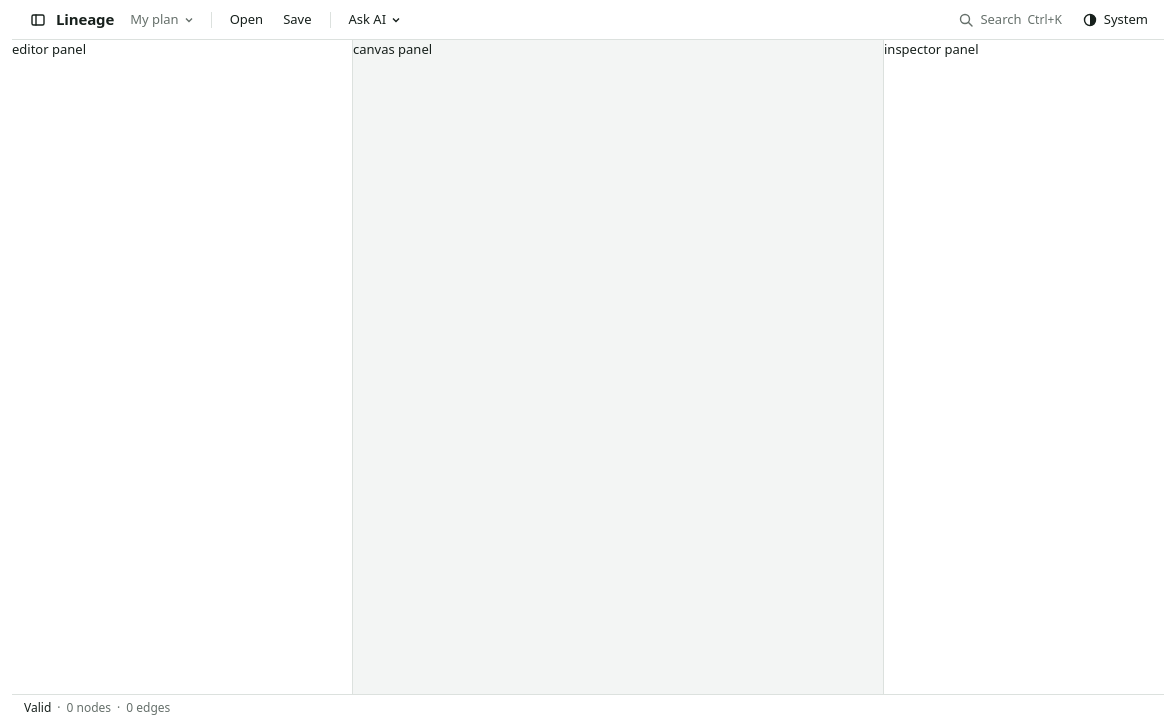
Scenario: flow menu › asks before replacing YAML that is not saved anywhere, and respects No
This screenshot has width=1164, height=720.
What coordinates should you click on to do the following:
click the button "My plan"
I would click on:
 (161, 20)
Its box is [122,6,201,34].
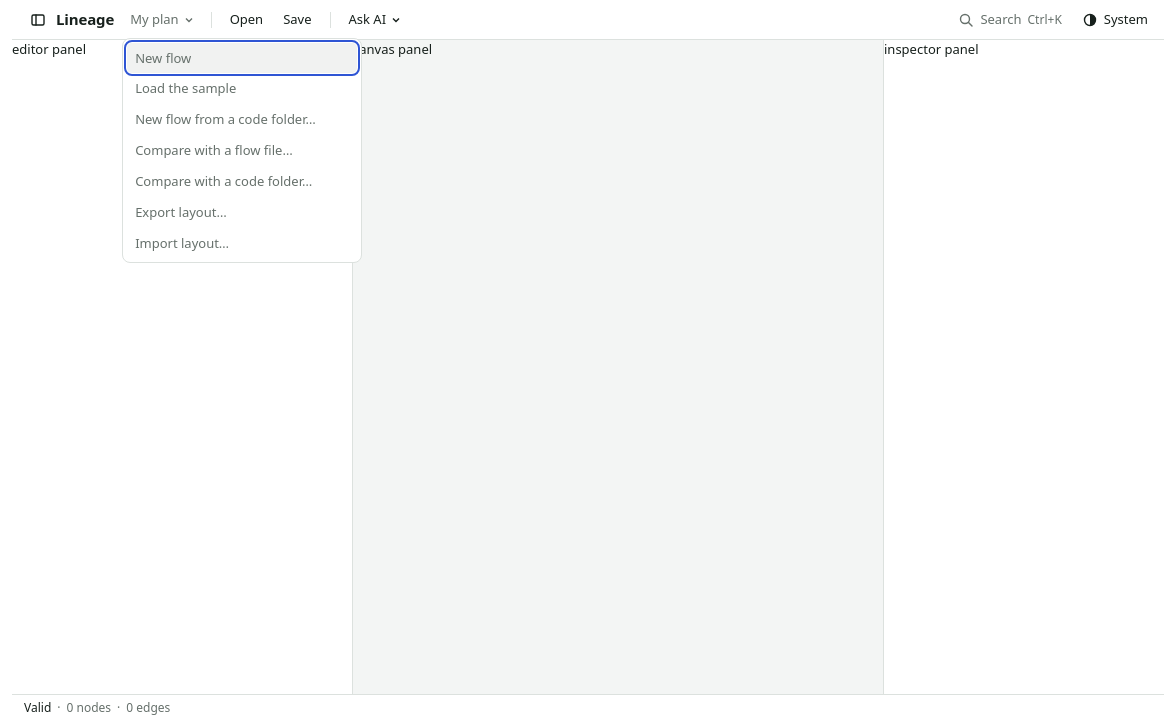
What coordinates should you click on to do the following:
click the menu item "Load the sample"
I would click on:
 (242, 89)
Its box is [127,73,357,104].
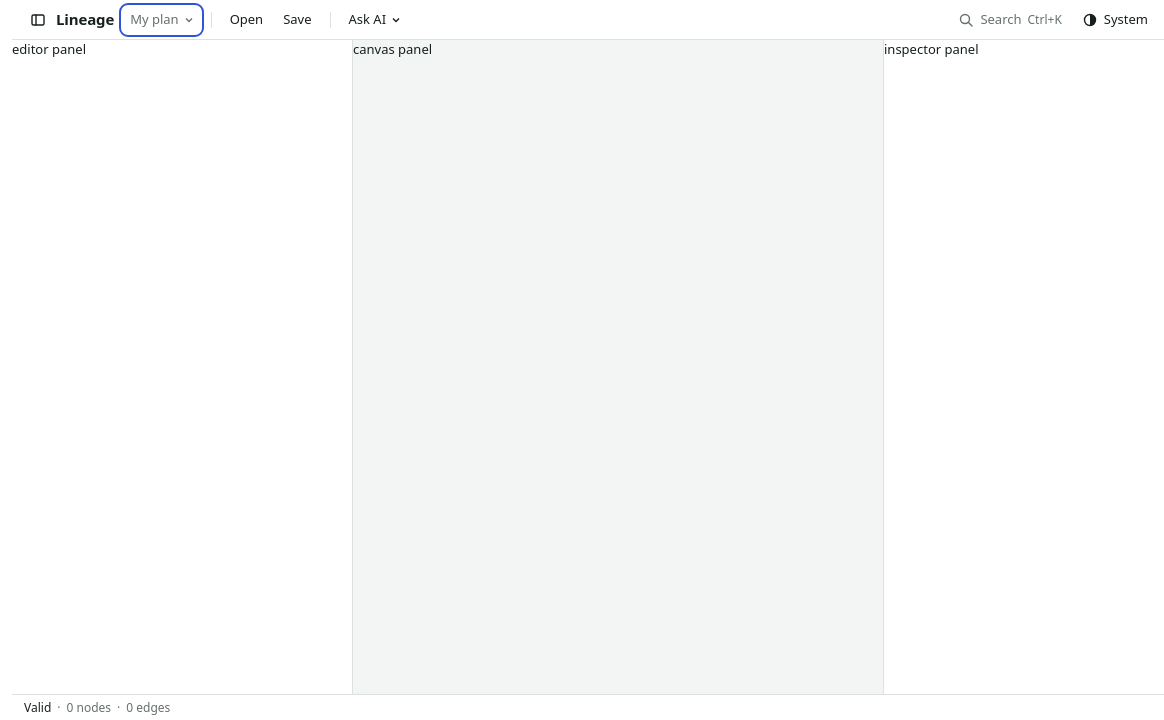
What coordinates should you click on to do the following:
click the button "My plan"
I would click on:
 (161, 20)
Its box is [122,6,201,34].
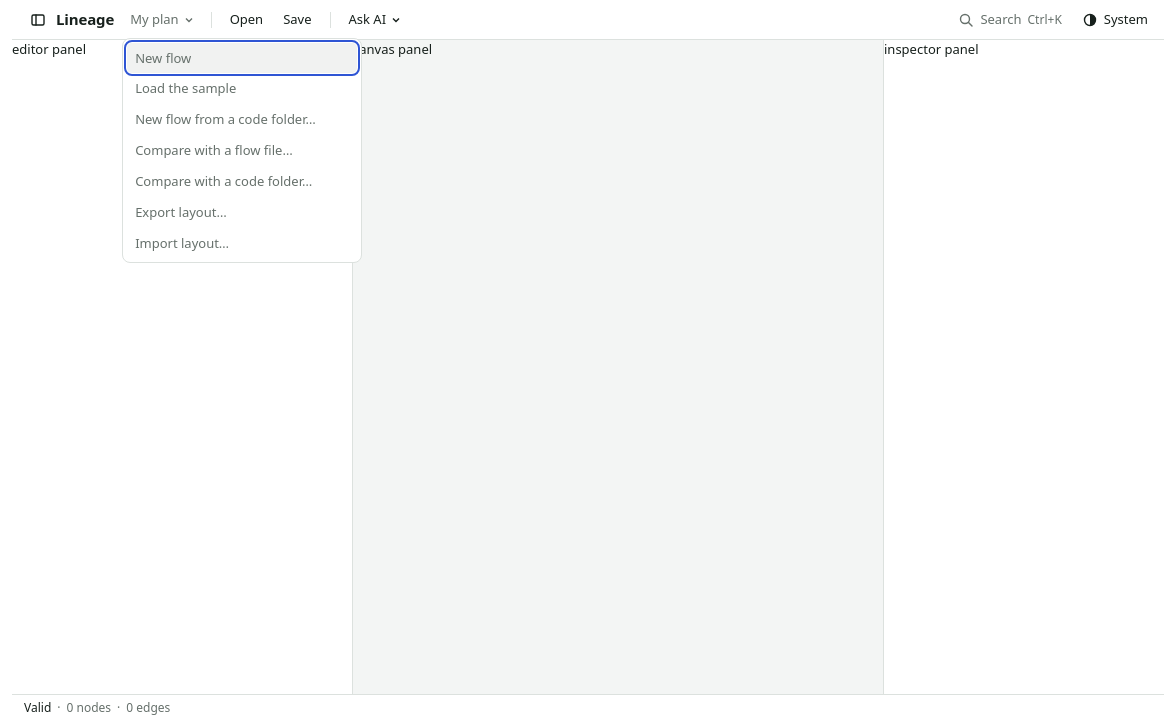
What coordinates should you click on to do the following:
click the menu item "Load the sample"
I would click on:
 (242, 89)
Its box is [127,73,357,104].
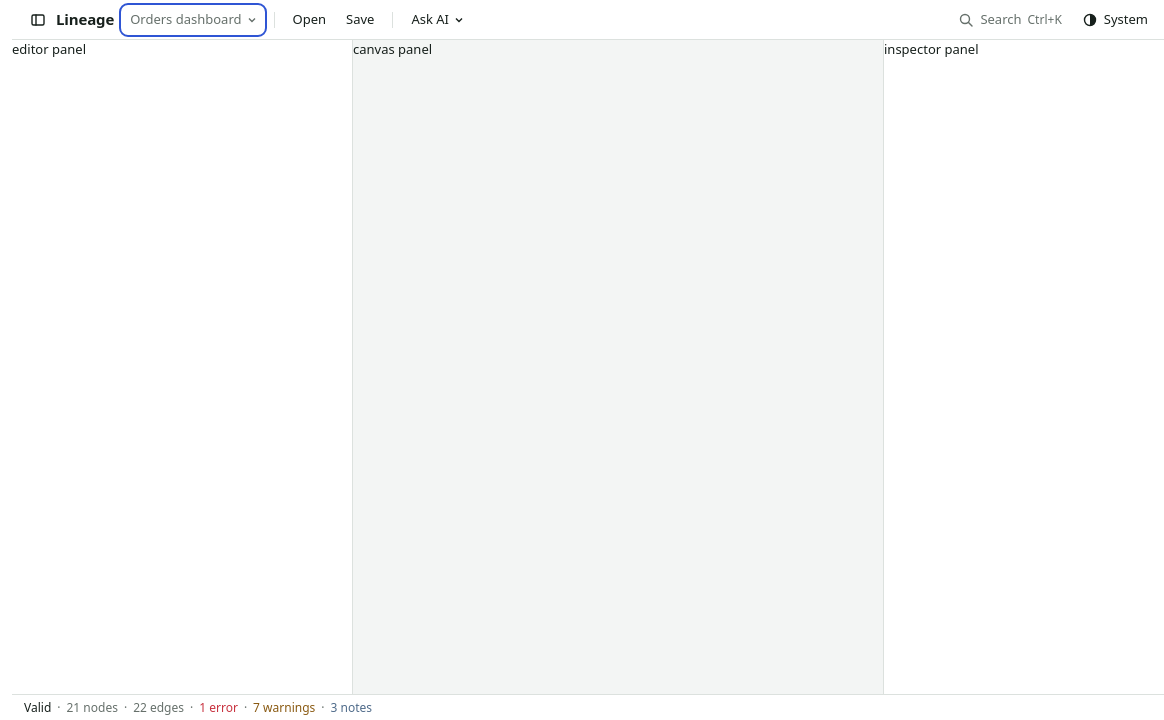
Expected: the button named "My plan" reads "Orders dashboard", [122,6,264,34]
